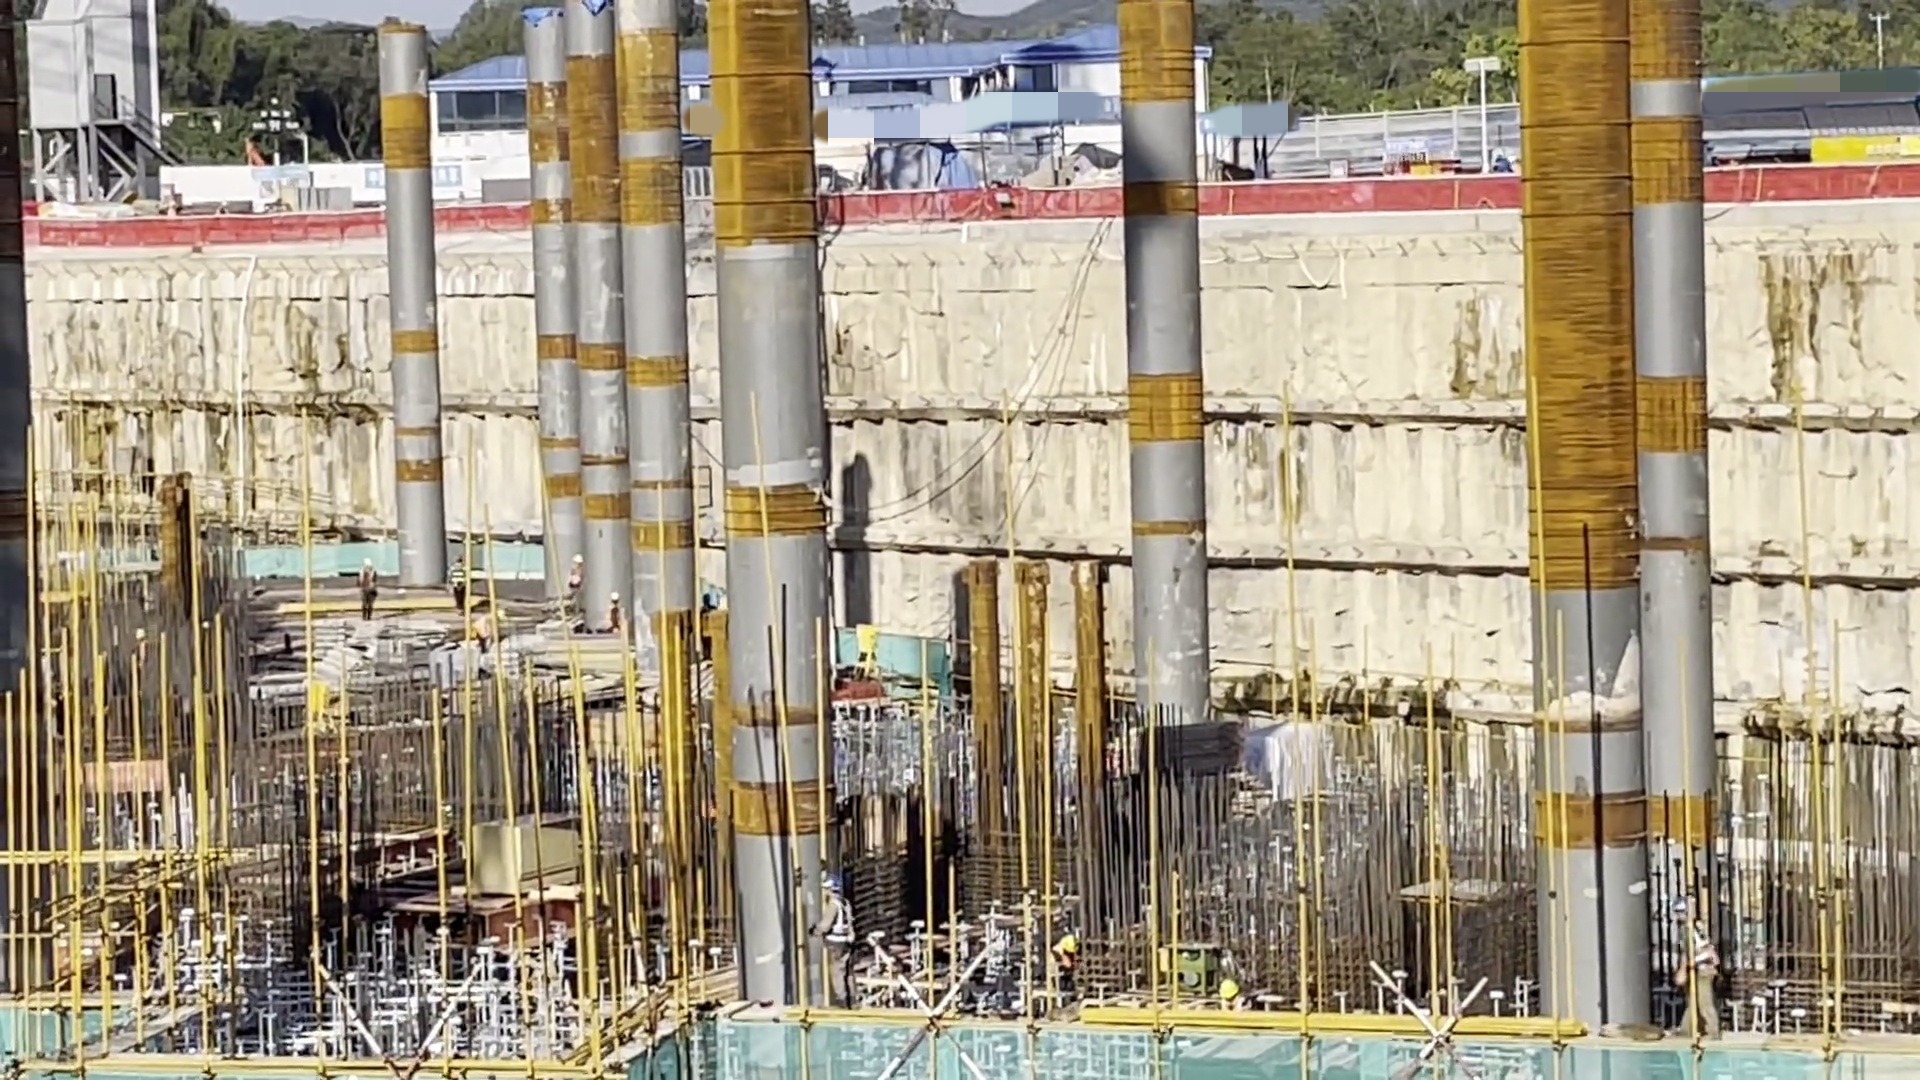board: (468, 814, 611, 909)
ebox: (836, 616, 879, 661), (309, 678, 329, 716)
fence: (19, 206, 383, 252), (1218, 172, 1529, 211), (826, 192, 1131, 224), (1716, 159, 1920, 203), (434, 192, 539, 229)
helmet: (1666, 894, 1688, 914), (1223, 981, 1241, 1001), (1061, 937, 1079, 959), (821, 877, 839, 897), (456, 552, 467, 566), (613, 593, 624, 603), (572, 552, 582, 562), (362, 557, 369, 568)
person: (1669, 898, 1731, 1038), (811, 877, 857, 1011), (1036, 935, 1082, 1005), (354, 554, 383, 619), (1211, 978, 1259, 1015), (603, 589, 626, 635), (444, 550, 463, 604), (560, 553, 587, 587)
vest: (1683, 924, 1714, 979), (823, 909, 851, 946), (1221, 997, 1257, 1011), (360, 570, 378, 598), (447, 565, 465, 590), (1056, 954, 1075, 976), (608, 607, 623, 629), (570, 567, 584, 583)
